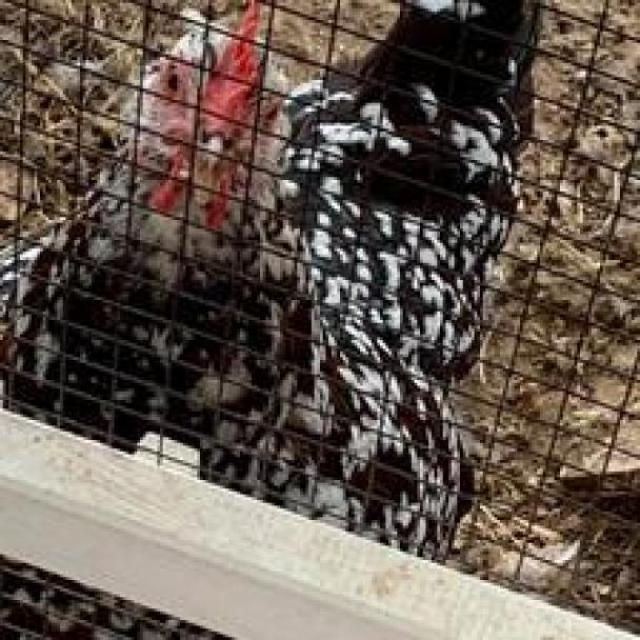Chicken: (22, 0, 594, 557)
